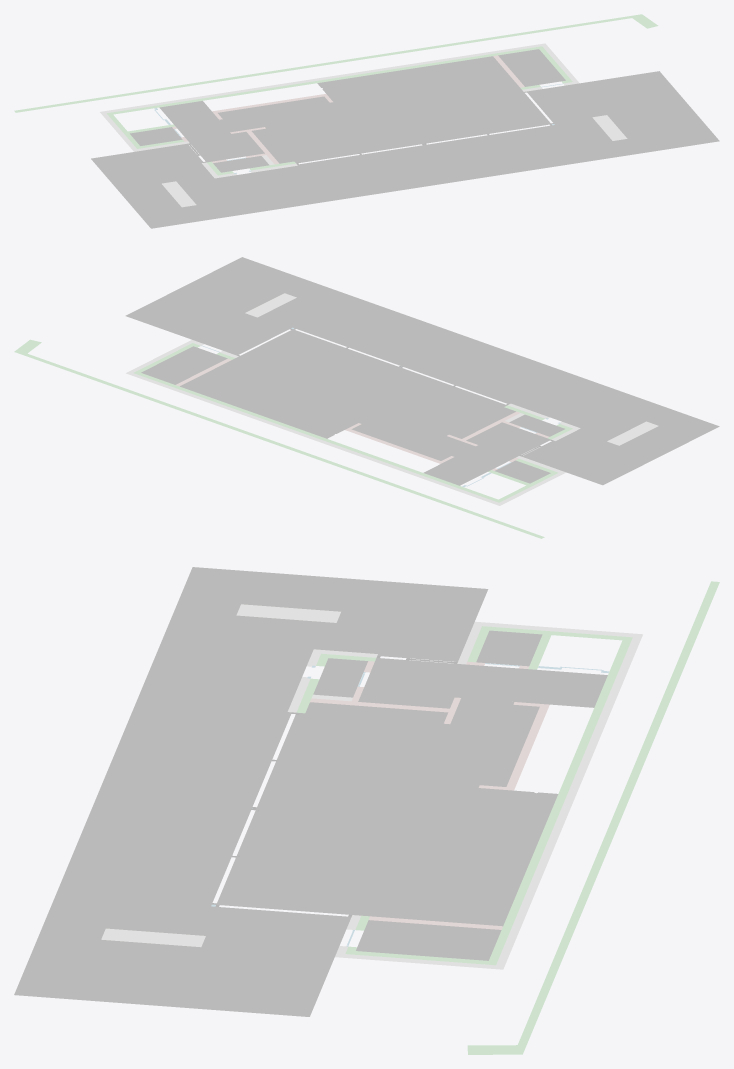
The model's file is floor-495200.glb.
The picture shows the model from 3 angles, top to bottom: view 1: azimuth 30°, elevation 25°; view 2: azimuth 150°, elevation 25°; view 3: azimuth 270°, elevation 25°; orthographic projection. The views are drawn at different scales.
Parts seen in each view (by area): view 1: SectionBody_8,b683faed-fb9d-4cc6-b100-20de4a1bdad3, SectionBody_24,c4d4f5d7-260c-4ad4-a9ce-62868acbba62, SectionBody_56,63c04251-d135-4bce-8152-a9d17808b4c5, SectionBody_58,091f06ed-b1d1-496b-aecd-070c5cff1f65, SectionBody_61,2d03ef07-ffb8-4f88-878f-c5a2b548d946, SectionBody_35,dc67b657-ab68-42d4-8bbd-9122a325cf12, SectionBody_34,dc67b657-ab68-42d4-8bbd-9122a325cf12, SectionBody_66,40f009c5-f6c7-4ef2-8b93-dde184843d29, SectionBody_32,89b1fc52-30c9-421b-8aba-7937692566b4, SectionBody_33,795bc6dd-ffb6-464f-bd53-32254240021a, SectionBody_63,afa63a6e-7fae-4072-89ff-7fe7ec9445ff; view 2: SectionBody_8,b683faed-fb9d-4cc6-b100-20de4a1bdad3, SectionBody_24,c4d4f5d7-260c-4ad4-a9ce-62868acbba62, SectionBody_56,63c04251-d135-4bce-8152-a9d17808b4c5, SectionBody_58,091f06ed-b1d1-496b-aecd-070c5cff1f65, SectionBody_61,2d03ef07-ffb8-4f88-878f-c5a2b548d946, SectionBody_35,dc67b657-ab68-42d4-8bbd-9122a325cf12, SectionBody_34,dc67b657-ab68-42d4-8bbd-9122a325cf12, SectionBody_66,40f009c5-f6c7-4ef2-8b93-dde184843d29, SectionBody_32,89b1fc52-30c9-421b-8aba-7937692566b4, SectionBody_33,795bc6dd-ffb6-464f-bd53-32254240021a, SectionBody_63,afa63a6e-7fae-4072-89ff-7fe7ec9445ff; view 3: SectionBody_8,b683faed-fb9d-4cc6-b100-20de4a1bdad3, SectionBody_24,c4d4f5d7-260c-4ad4-a9ce-62868acbba62, SectionBody_56,63c04251-d135-4bce-8152-a9d17808b4c5, SectionBody_58,091f06ed-b1d1-496b-aecd-070c5cff1f65, SectionBody_61,2d03ef07-ffb8-4f88-878f-c5a2b548d946, SectionBody_35,dc67b657-ab68-42d4-8bbd-9122a325cf12, SectionBody_34,dc67b657-ab68-42d4-8bbd-9122a325cf12, SectionBody_66,40f009c5-f6c7-4ef2-8b93-dde184843d29, SectionBody_32,89b1fc52-30c9-421b-8aba-7937692566b4, SectionBody_63,afa63a6e-7fae-4072-89ff-7fe7ec9445ff, SectionBody_33,795bc6dd-ffb6-464f-bd53-32254240021a, SectionBody_47,9666f702-09d8-429c-ab40-5c51cb5530fb (+2 smaller).
Part boxes in pixels (x1,y1,x2,y2): SectionBody_8,b683faed-fb9d-4cc6-b100-20de4a1bdad3: (91, 71, 719, 228); SectionBody_24,c4d4f5d7-260c-4ad4-a9ce-62868acbba62: (218, 56, 551, 163); SectionBody_56,63c04251-d135-4bce-8152-a9d17808b4c5: (159, 101, 264, 162); SectionBody_58,091f06ed-b1d1-496b-aecd-070c5cff1f65: (14, 14, 644, 112); SectionBody_61,2d03ef07-ffb8-4f88-878f-c5a2b548d946: (498, 49, 565, 86); SectionBody_35,dc67b657-ab68-42d4-8bbd-9122a325cf12: (105, 44, 541, 113); SectionBody_34,dc67b657-ab68-42d4-8bbd-9122a325cf12: (111, 47, 538, 114); SectionBody_66,40f009c5-f6c7-4ef2-8b93-dde184843d29: (130, 127, 182, 145); SectionBody_32,89b1fc52-30c9-421b-8aba-7937692566b4: (213, 156, 269, 172); SectionBody_33,795bc6dd-ffb6-464f-bd53-32254240021a: (592, 115, 627, 140); SectionBody_63,afa63a6e-7fae-4072-89ff-7fe7ec9445ff: (162, 181, 196, 207); SectionBody_8,b683faed-fb9d-4cc6-b100-20de4a1bdad3: (125, 257, 719, 485); SectionBody_24,c4d4f5d7-260c-4ad4-a9ce-62868acbba62: (180, 329, 515, 460); SectionBody_56,63c04251-d135-4bce-8152-a9d17808b4c5: (423, 422, 550, 485); SectionBody_58,091f06ed-b1d1-496b-aecd-070c5cff1f65: (14, 350, 544, 538); SectionBody_61,2d03ef07-ffb8-4f88-878f-c5a2b548d946: (141, 346, 227, 384); SectionBody_35,dc67b657-ab68-42d4-8bbd-9122a325cf12: (130, 373, 498, 504); SectionBody_34,dc67b657-ab68-42d4-8bbd-9122a325cf12: (137, 373, 497, 501); SectionBody_66,40f009c5-f6c7-4ef2-8b93-dde184843d29: (495, 460, 550, 483); SectionBody_32,89b1fc52-30c9-421b-8aba-7937692566b4: (509, 414, 564, 436); SectionBody_33,795bc6dd-ffb6-464f-bd53-32254240021a: (245, 293, 296, 317); SectionBody_63,afa63a6e-7fae-4072-89ff-7fe7ec9445ff: (607, 421, 658, 445); SectionBody_8,b683faed-fb9d-4cc6-b100-20de4a1bdad3: (14, 567, 488, 1016); SectionBody_24,c4d4f5d7-260c-4ad4-a9ce-62868acbba62: (216, 698, 558, 926); SectionBody_56,63c04251-d135-4bce-8152-a9d17808b4c5: (358, 658, 607, 708); SectionBody_58,091f06ed-b1d1-496b-aecd-070c5cff1f65: (514, 581, 719, 1054); SectionBody_61,2d03ef07-ffb8-4f88-878f-c5a2b548d946: (356, 920, 501, 960); SectionBody_35,dc67b657-ab68-42d4-8bbd-9122a325cf12: (496, 637, 641, 965); SectionBody_34,dc67b657-ab68-42d4-8bbd-9122a325cf12: (489, 640, 630, 961); SectionBody_66,40f009c5-f6c7-4ef2-8b93-dde184843d29: (476, 630, 542, 666); SectionBody_32,89b1fc52-30c9-421b-8aba-7937692566b4: (313, 658, 367, 697); SectionBody_63,afa63a6e-7fae-4072-89ff-7fe7ec9445ff: (236, 604, 340, 622); SectionBody_33,795bc6dd-ffb6-464f-bd53-32254240021a: (101, 928, 205, 947); SectionBody_47,9666f702-09d8-429c-ab40-5c51cb5530fb: (505, 704, 549, 790).
Size of the model in its own units: 25641 by 0 by 15678.
